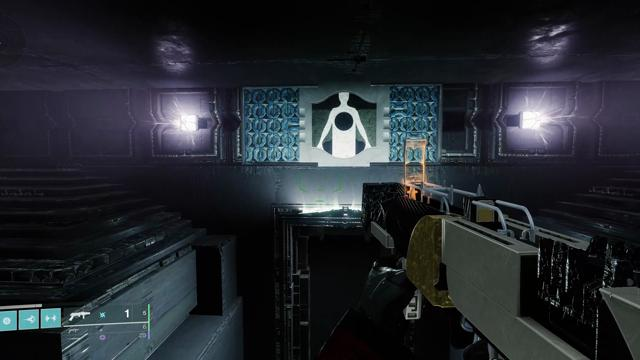grief: (312, 92, 377, 158)
